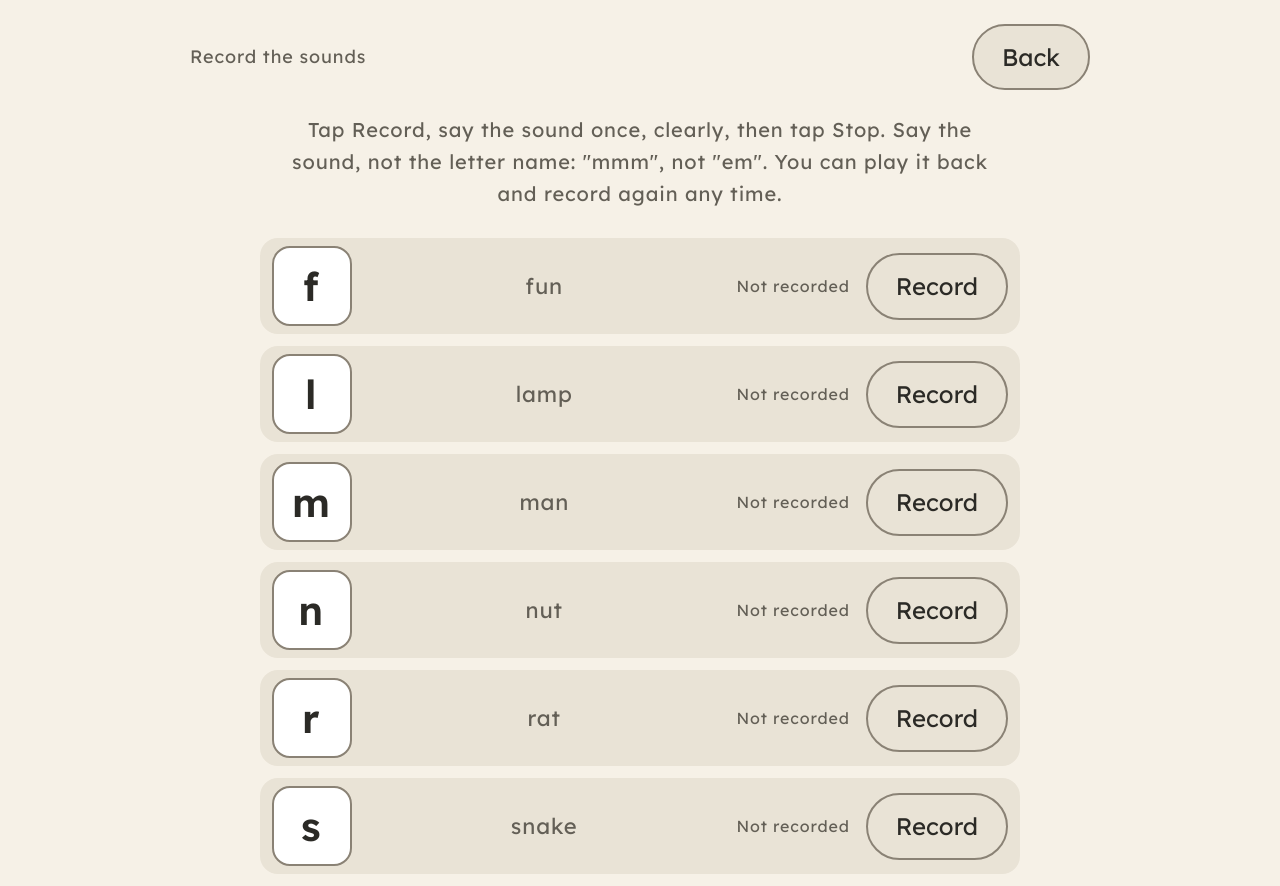
it: RecordScreen › says so when the microphone cannot be used
The image size is (1280, 886).
Click the button "Record" in the row of "fun".
click(937, 286)  # box [866,253,1008,320]
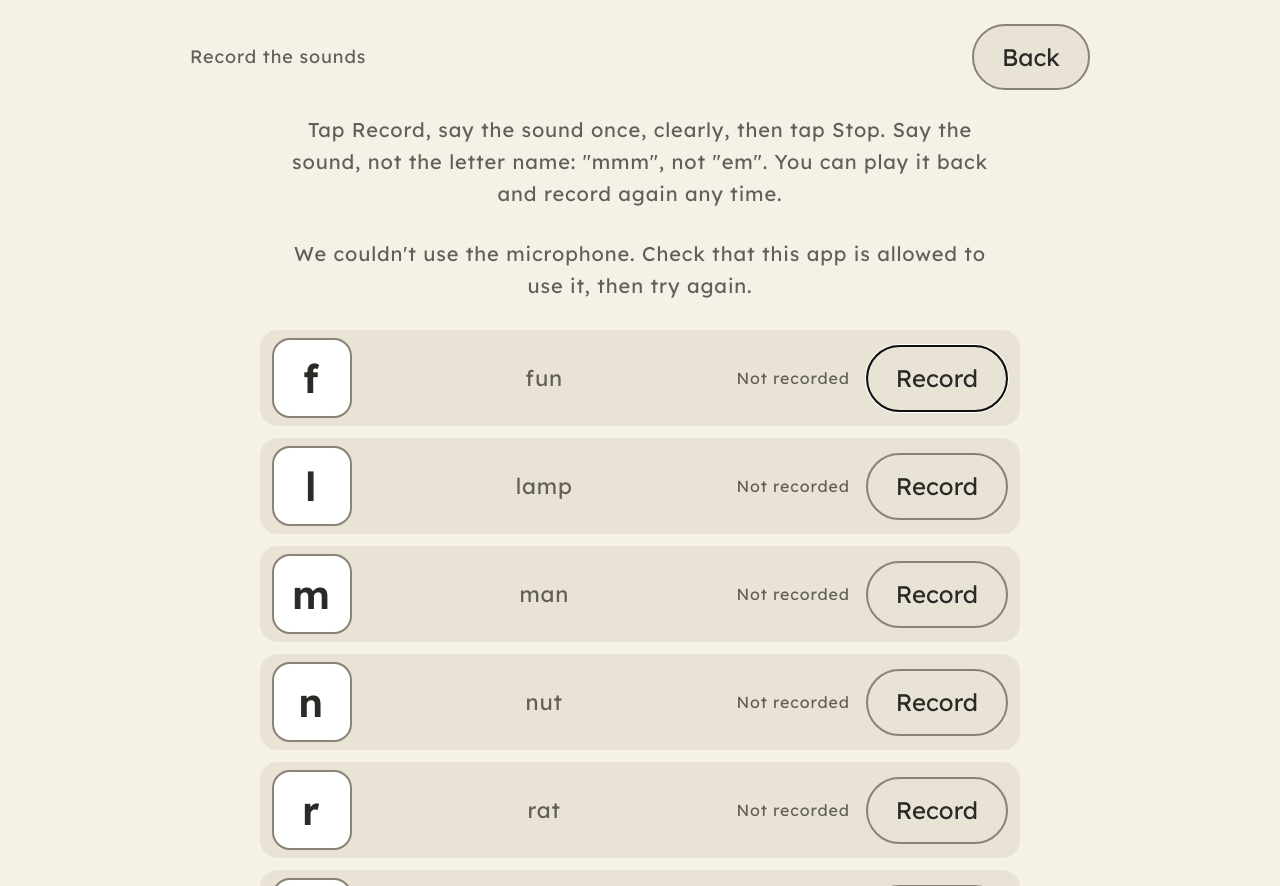
Expected: the text "couldn't use the microphone" is shown, [294,241,986,298]
